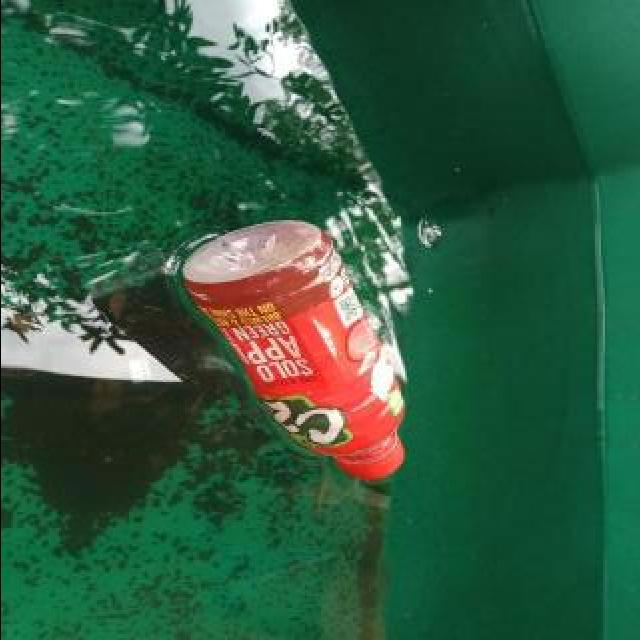Bottle: (173, 208, 415, 490)
